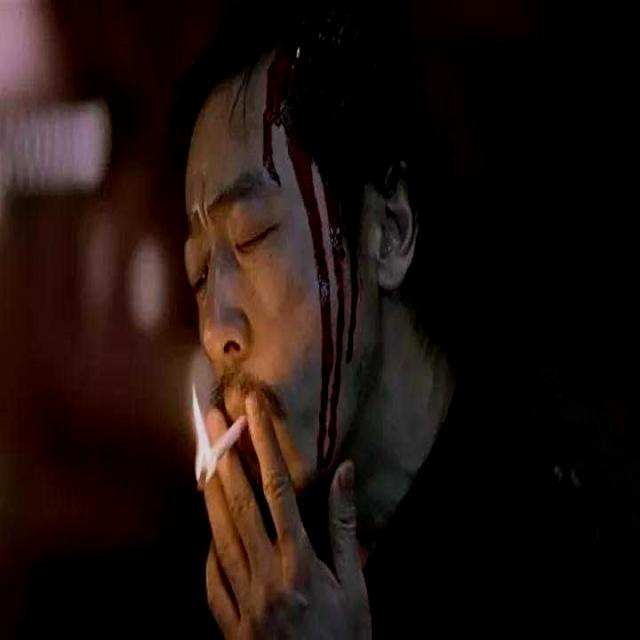Smooking: (185, 392, 250, 492)
